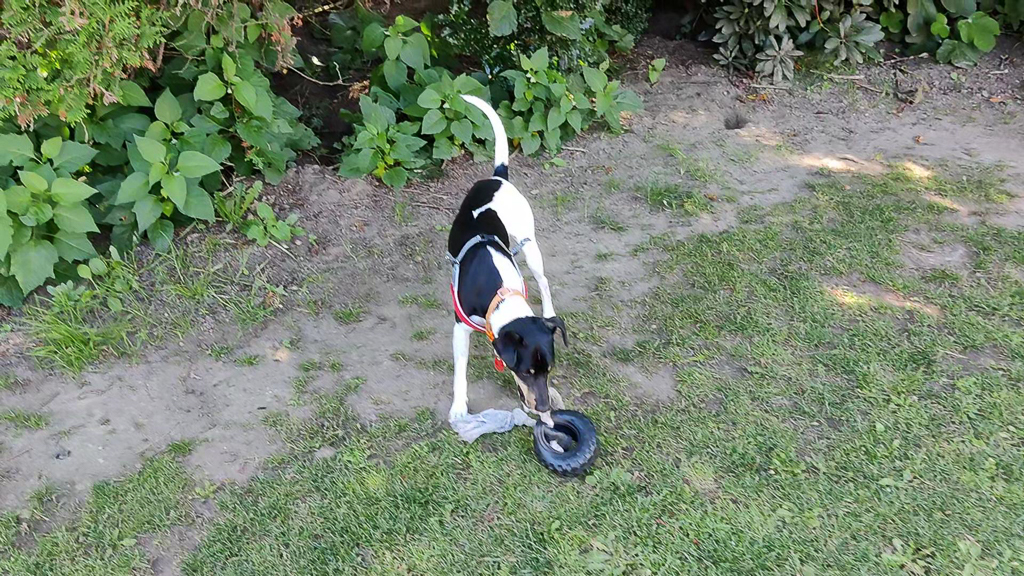Dog: (417, 81, 602, 466)
